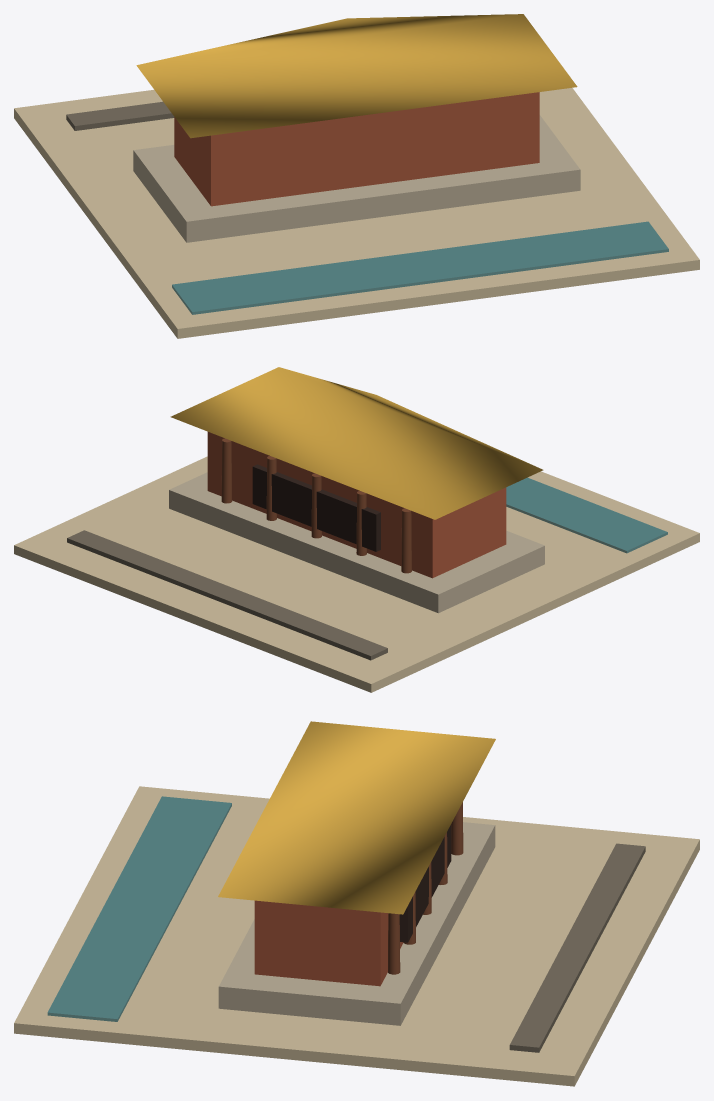
The model's file is model-medium.glb.
3 views of the same model, one above another, from view 1: azimuth 30°, elevation 25°; view 2: azimuth 150°, elevation 25°; view 3: azimuth 270°, elevation 25° (orthographic). The views are drawn at different scales.
Parts seen in each view (by area): view 1: context_site_plinth, sweeping_tiled_roof, main_hall_wall_volume, raised_ceremonial_platform, context_water_edge, front_scale_strip; view 2: context_site_plinth, sweeping_tiled_roof, raised_ceremonial_platform, main_hall_wall_volume, front_scale_strip, context_water_edge, central_shadow_door, front_column_1, front_column_5; view 3: context_site_plinth, sweeping_tiled_roof, context_water_edge, raised_ceremonial_platform, main_hall_wall_volume, front_scale_strip, central_shadow_door, front_column_5.
Boxes of the visible parts, left/top/right/bottom form: context_site_plinth: left=14, top=88, right=699, bottom=338; sweeping_tiled_roof: left=136, top=14, right=577, bottom=138; main_hall_wall_volume: left=174, top=92, right=539, bottom=206; raised_ceremonial_platform: left=133, top=115, right=580, bottom=242; context_water_edge: left=172, top=221, right=668, bottom=314; front_scale_strip: left=66, top=101, right=174, bottom=130; context_site_plinth: left=14, top=456, right=699, bottom=692; sweeping_tiled_roof: left=170, top=367, right=543, bottom=519; raised_ceremonial_platform: left=169, top=472, right=544, bottom=613; main_hall_wall_volume: left=207, top=432, right=506, bottom=578; front_scale_strip: left=67, top=530, right=387, bottom=660; context_water_edge: left=506, top=477, right=667, bottom=553; central_shadow_door: left=252, top=464, right=380, bottom=551; front_column_1: left=401, top=508, right=411, bottom=573; front_column_5: left=221, top=438, right=232, bottom=503; context_site_plinth: left=14, top=786, right=699, bottom=1086; sweeping_tiled_roof: left=218, top=721, right=495, bottom=914; context_water_edge: left=47, top=796, right=231, bottom=1021; raised_ceremonial_platform: left=218, top=822, right=495, bottom=1025; main_hall_wall_volume: left=254, top=900, right=403, bottom=986; front_scale_strip: left=509, top=843, right=645, bottom=1052; central_shadow_door: left=399, top=824, right=451, bottom=942; front_column_5: left=388, top=913, right=400, bottom=974.
Bounding box in the file's own units: 9.55 × 2.62 × 9.55.
